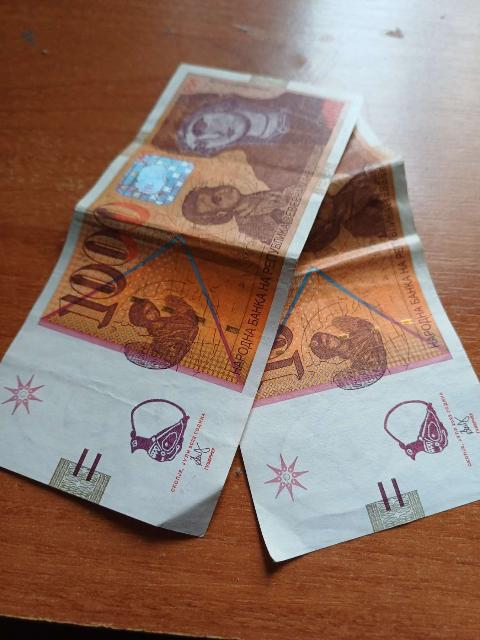1000_note: (0, 65, 355, 536), (240, 122, 479, 559)
